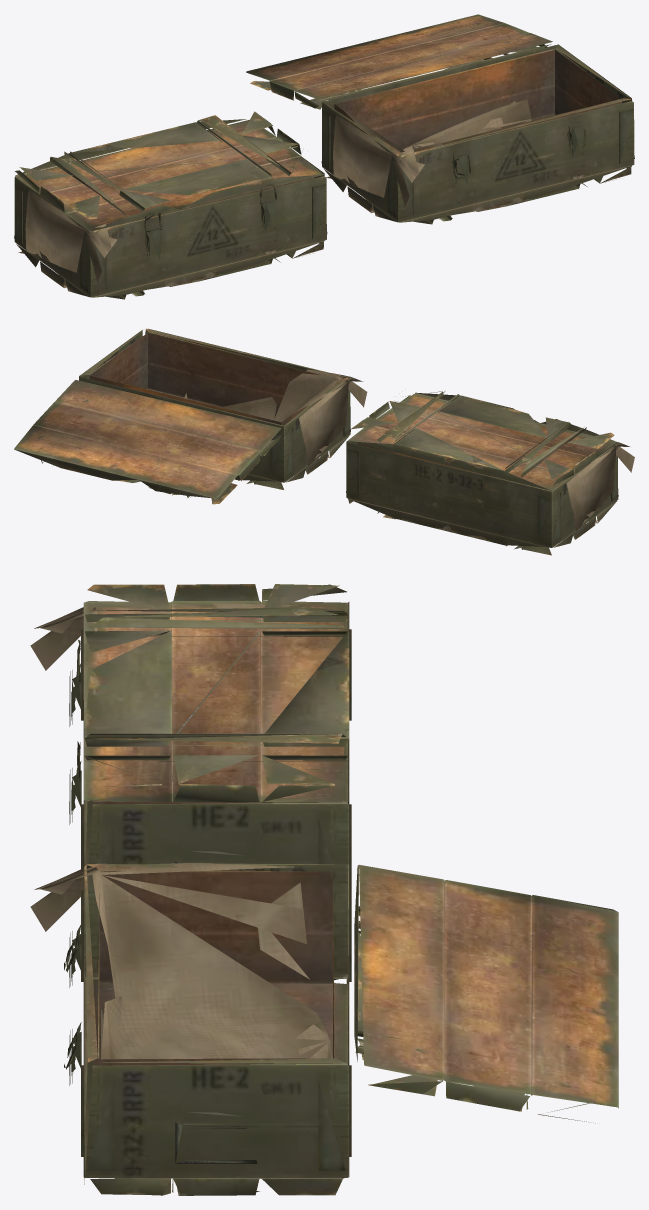
Rendered from old_military_crate.gltf.
3 views of the same model, one above another, from view 1: azimuth 30°, elevation 25°; view 2: azimuth 150°, elevation 25°; view 3: azimuth 270°, elevation 25° (orthographic). The views are drawn at different scales.
Parts seen in each view (by area): view 1: old_military_crate_b, old_military_crate_lid_a, old_military_crate_a, old_military_crate_lid_b, old_military_crate_cloth_b, old_military_crate_cloth_a, old_military_crate_latch_a, old_military_crate_latch_b; view 2: old_military_crate_lid_b, old_military_crate_a, old_military_crate_b, old_military_crate_lid_a, old_military_crate_cloth_b, old_military_crate_cloth_a; view 3: old_military_crate_b, old_military_crate_lid_a, old_military_crate_lid_b, old_military_crate_cloth_b, old_military_crate_a, old_military_crate_cloth_a, old_military_crate_latch_a, old_military_crate_latch_b.
Boxes of the visible parts, x1,y1,x2,y2 form: old_military_crate_b: (321,44,634,224); old_military_crate_lid_a: (15,111,323,231); old_military_crate_a: (14,120,327,299); old_military_crate_lid_b: (246,14,552,109); old_military_crate_cloth_b: (333,99,531,206); old_military_crate_cloth_a: (25,187,117,282); old_military_crate_latch_a: (145,196,275,259); old_military_crate_latch_b: (453,121,583,183); old_military_crate_lid_b: (14,379,282,504); old_military_crate_a: (346,394,618,555); old_military_crate_b: (79,328,350,489); old_military_crate_lid_a: (348,391,616,490); old_military_crate_cloth_b: (184,369,367,465); old_military_crate_cloth_a: (566,434,634,530); old_military_crate_b: (81,864,351,1195); old_military_crate_lid_a: (83,584,349,802); old_military_crate_lid_b: (354,864,618,1123); old_military_crate_cloth_b: (30,863,331,1059); old_military_crate_a: (81,602,351,890); old_military_crate_cloth_a: (30,602,298,670); old_military_crate_latch_a: (69,663,81,824); old_military_crate_latch_b: (69,924,81,1085).
Bounding box in the file's own units: 1.81 × 0.3009 × 0.9519.
1 material, 1 textured.
